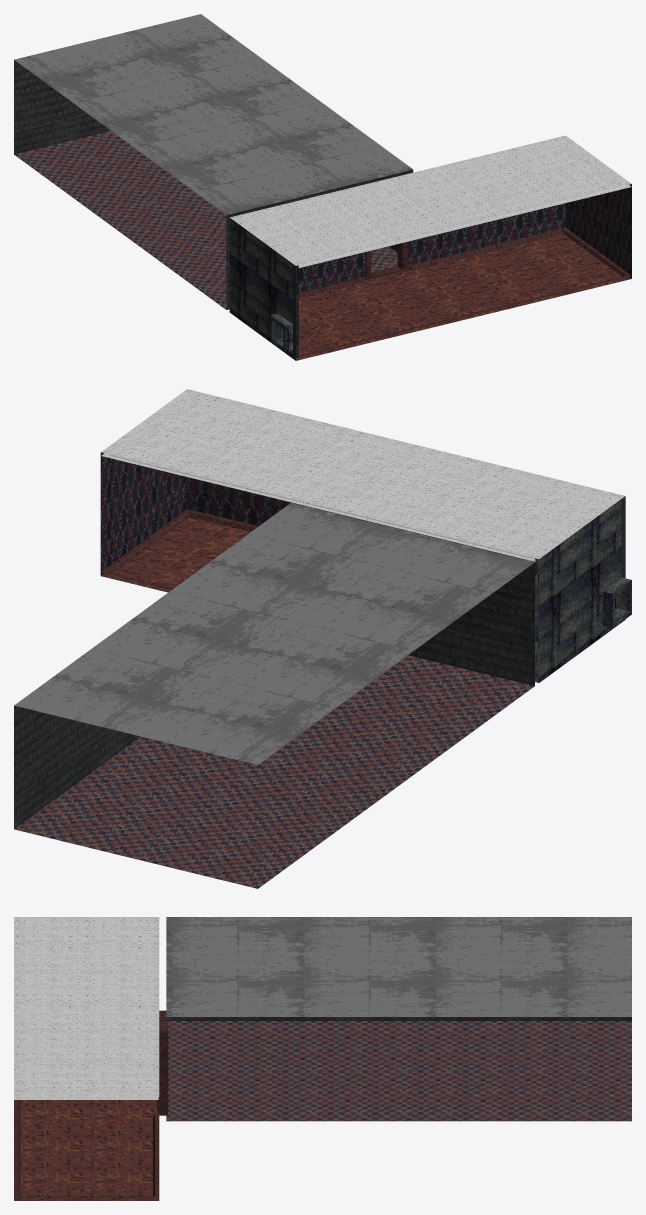
The model's file is Game room.fbx.
The picture shows the model from 3 angles, top to bottom: view 1: azimuth 30°, elevation 25°; view 2: azimuth 150°, elevation 25°; view 3: azimuth 270°, elevation 25°; orthographic projection. The views are drawn at different scales.
Visible parts, largest first — view 1: Box room, Office, Baseboard floor, Baseboard ceiling, Door sill; view 2: Box room, Office, Baseboard ceiling, Baseboard floor; view 3: Box room, Office, Baseboard floor, Door sill, Baseboard ceiling.
Boxes of the visible parts, bbox=[...] form: Box room: bbox=[14, 14, 412, 309]; Office: bbox=[226, 135, 631, 360]; Baseboard floor: bbox=[298, 227, 631, 356]; Baseboard ceiling: bbox=[298, 185, 631, 267]; Door sill: bbox=[365, 242, 407, 279]; Box room: bbox=[14, 503, 534, 888]; Office: bbox=[100, 389, 631, 685]; Baseboard ceiling: bbox=[101, 453, 535, 561]; Baseboard floor: bbox=[101, 509, 535, 678]; Box room: bbox=[166, 917, 631, 1121]; Office: bbox=[14, 917, 159, 1200]; Baseboard floor: bbox=[14, 1100, 159, 1197]; Door sill: bbox=[157, 1010, 168, 1115]; Baseboard ceiling: bbox=[14, 1097, 158, 1099].
Bounding box in the file's own units: 1365 × 360 × 1937.
